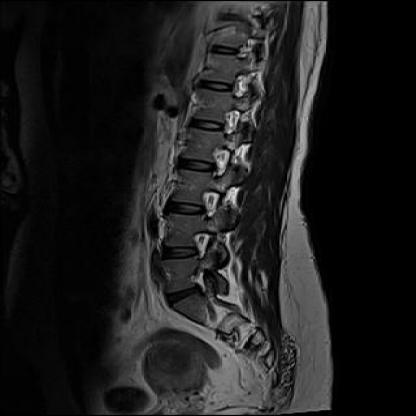Degenerative Disc Diseaserotation: (167, 288, 200, 306)
Disc Herniationrotation: (165, 287, 198, 305)
